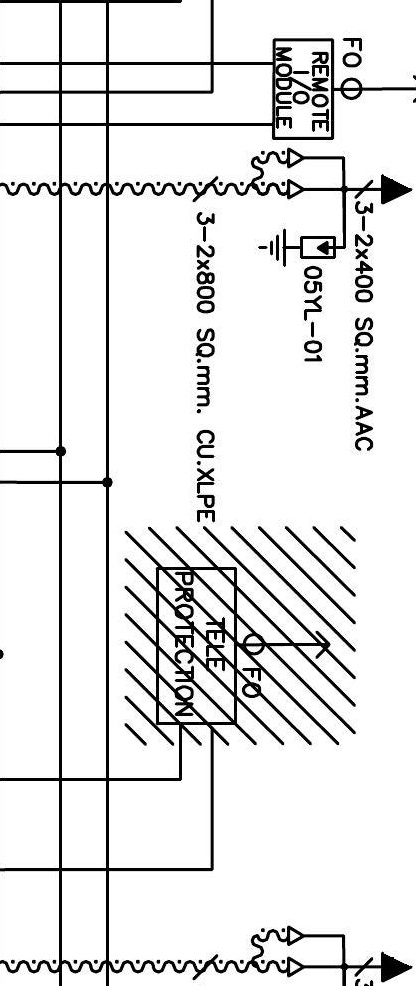115_la: (257, 228, 337, 268)
remote_io_module: (270, 36, 336, 142)
tele_protection: (153, 564, 240, 728)
terminator_double: (286, 146, 346, 201), (285, 925, 346, 979)
